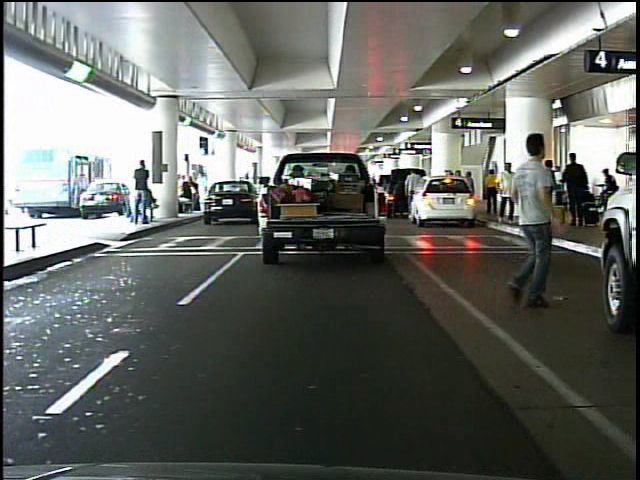person: (484, 118, 566, 326), (562, 143, 591, 231), (493, 157, 524, 229), (131, 157, 155, 227), (538, 152, 557, 231), (402, 165, 425, 221), (483, 165, 502, 220), (598, 164, 621, 193)
